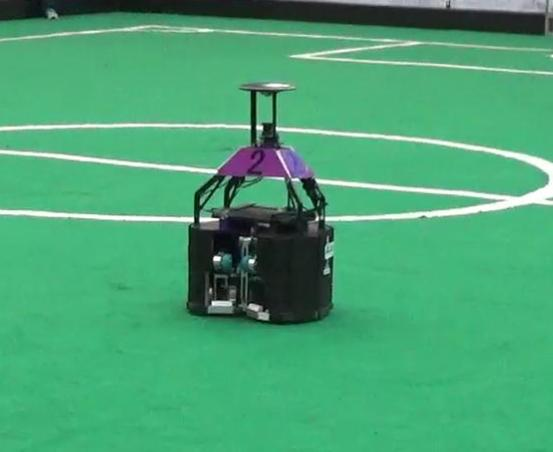robot: (176, 82, 345, 327)
